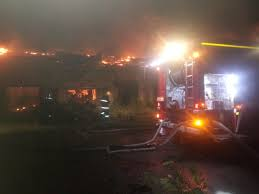fire: (117, 32, 203, 89)
